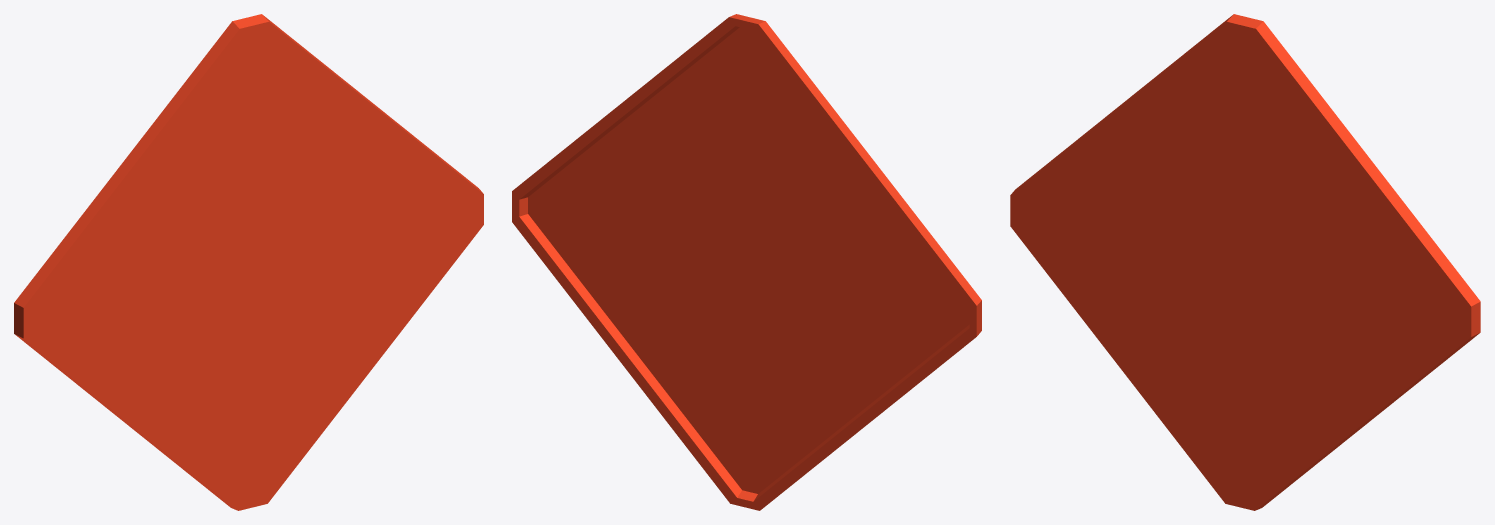
Rendered from SM_Sign_Crossroad_A_City.fbx.
3 views of the same model, side by side, from view 1: azimuth 30°, elevation 25°; view 2: azimuth 150°, elevation 25°; view 3: azimuth 330°, elevation 25° (orthographic).
Visible parts, largest first — view 1: SM_Sign_Crossroad_A_City; view 2: SM_Sign_Crossroad_A_City; view 3: SM_Sign_Crossroad_A_City.
Boxes of the visible parts, <box> form: SM_Sign_Crossroad_A_City: <box>14,14,483,510</box>; SM_Sign_Crossroad_A_City: <box>512,14,981,510</box>; SM_Sign_Crossroad_A_City: <box>1010,14,1480,510</box>.
Size of the model in its own units: 0.7813 by 0.7813 by 0.0215.
